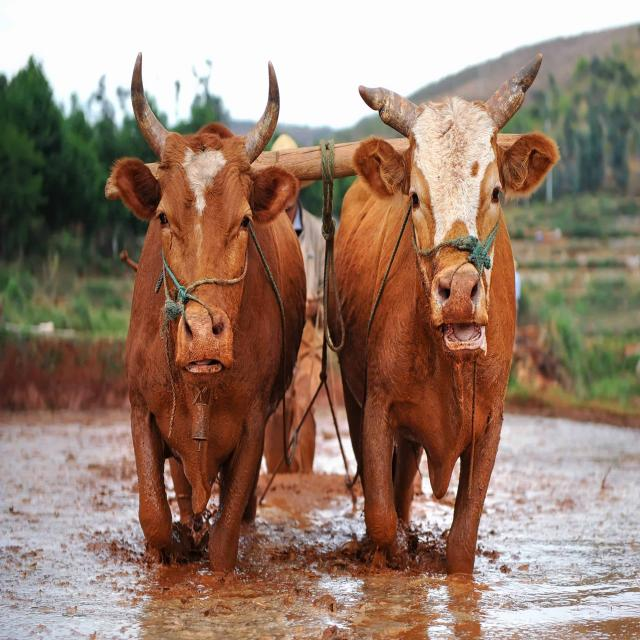Ox: (105, 50, 308, 568)
